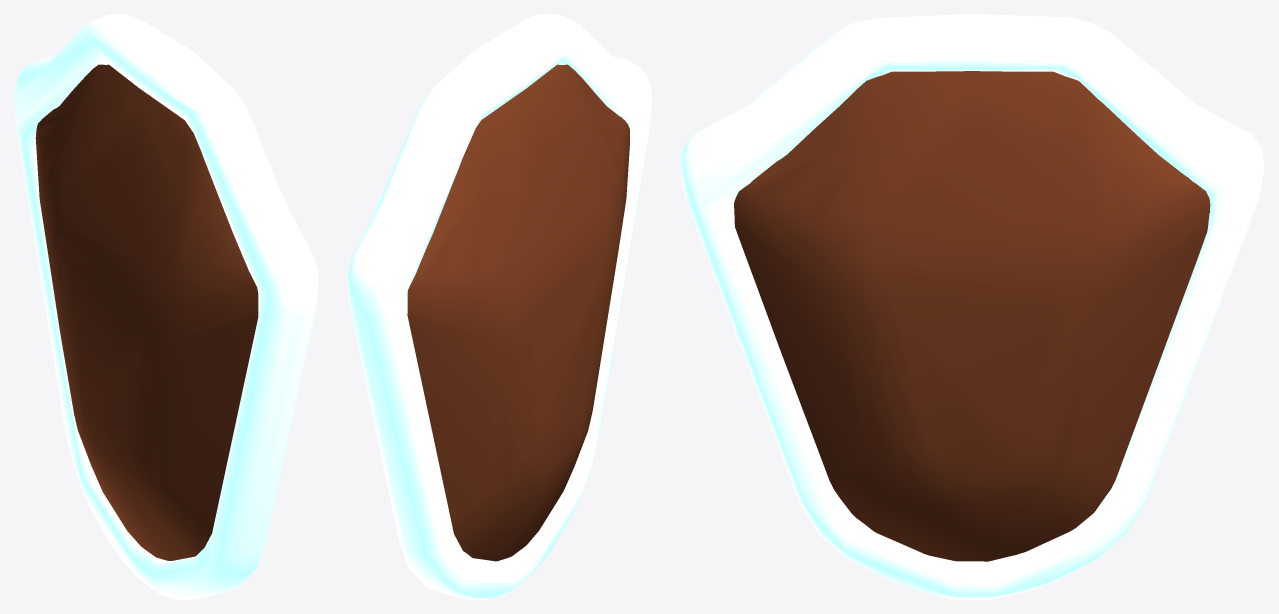
Rendered from Shield.fbx.
The picture shows the model from 3 angles, left to right: view 1: azimuth 30°, elevation 25°; view 2: azimuth 150°, elevation 25°; view 3: azimuth 270°, elevation 25°; orthographic projection. The views are drawn at different scales.
Parts seen in each view (by area): view 1: Shield; view 2: Shield; view 3: Shield.
Boxes of the visible parts, x1,y1,x2,y2 form: Shield: (14, 14, 318, 599); Shield: (347, 14, 651, 599); Shield: (680, 14, 1264, 599).
Bounding box in the file's own units: 148 × 583 × 539.
